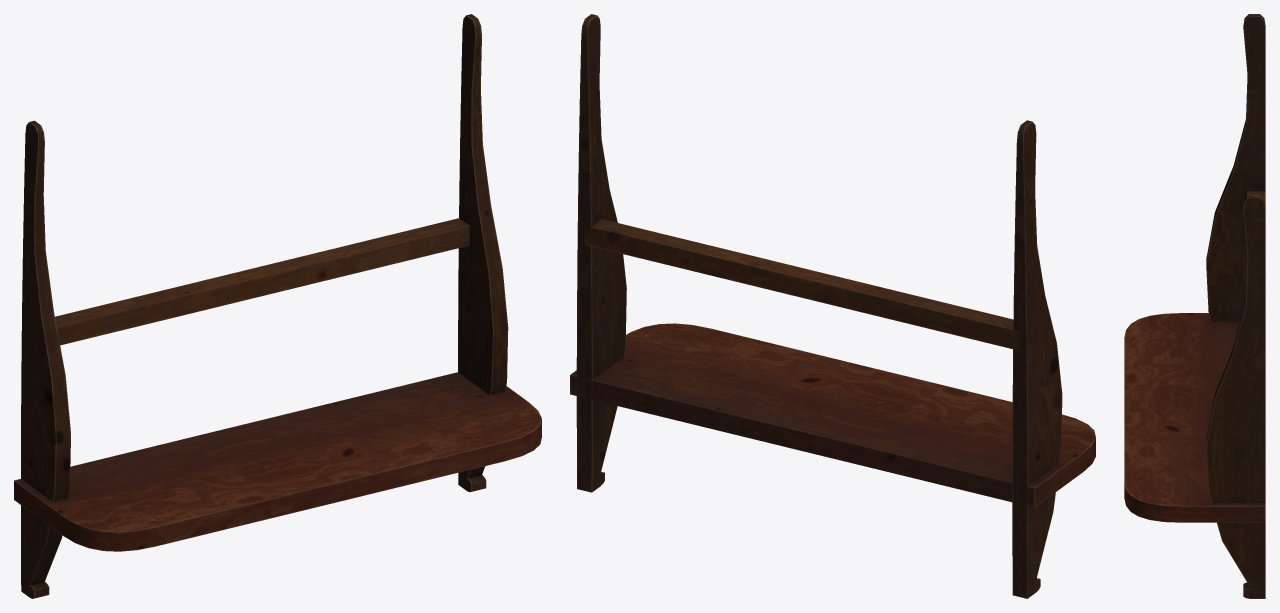
File: DS_WizLab_Furn_Shelf.fbx
The picture shows the model from 3 angles, left to right: view 1: azimuth 30°, elevation 25°; view 2: azimuth 150°, elevation 25°; view 3: azimuth 270°, elevation 25°; orthographic projection. The views are drawn at different scales.
Parts seen in each view (by area): view 1: DS_WizLab_Furn_Shelf; view 2: DS_WizLab_Furn_Shelf; view 3: DS_WizLab_Furn_Shelf.
Boxes of the visible parts, x1=… form: DS_WizLab_Furn_Shelf: x1=14, y1=14, x2=541, y2=598; DS_WizLab_Furn_Shelf: x1=570, y1=14, x2=1095, y2=598; DS_WizLab_Furn_Shelf: x1=1124, y1=14, x2=1265, y2=598.
Bounding box in the file's own units: 100 × 96.47 × 30.89.
Materials: 1 (1 with a texture image).
